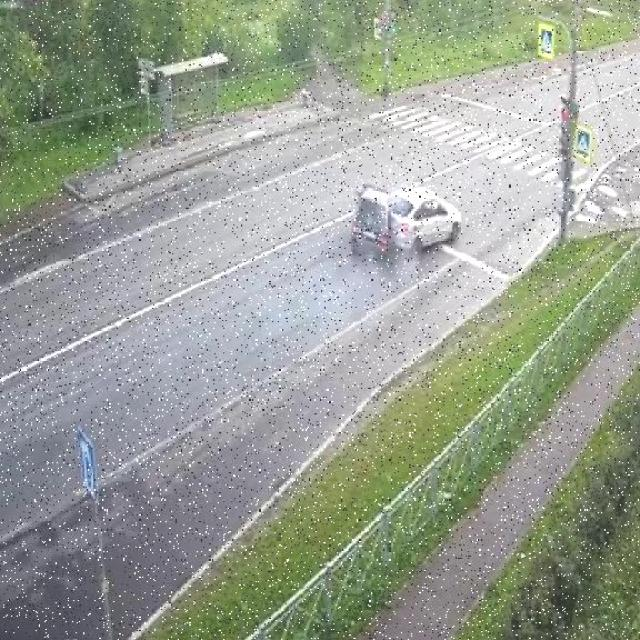accident: (348, 179, 464, 264)
